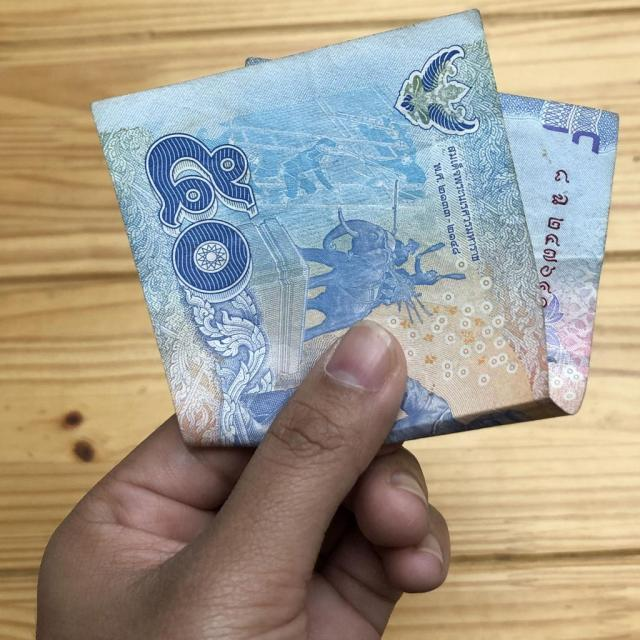THAI50: (91, 9, 621, 451)
